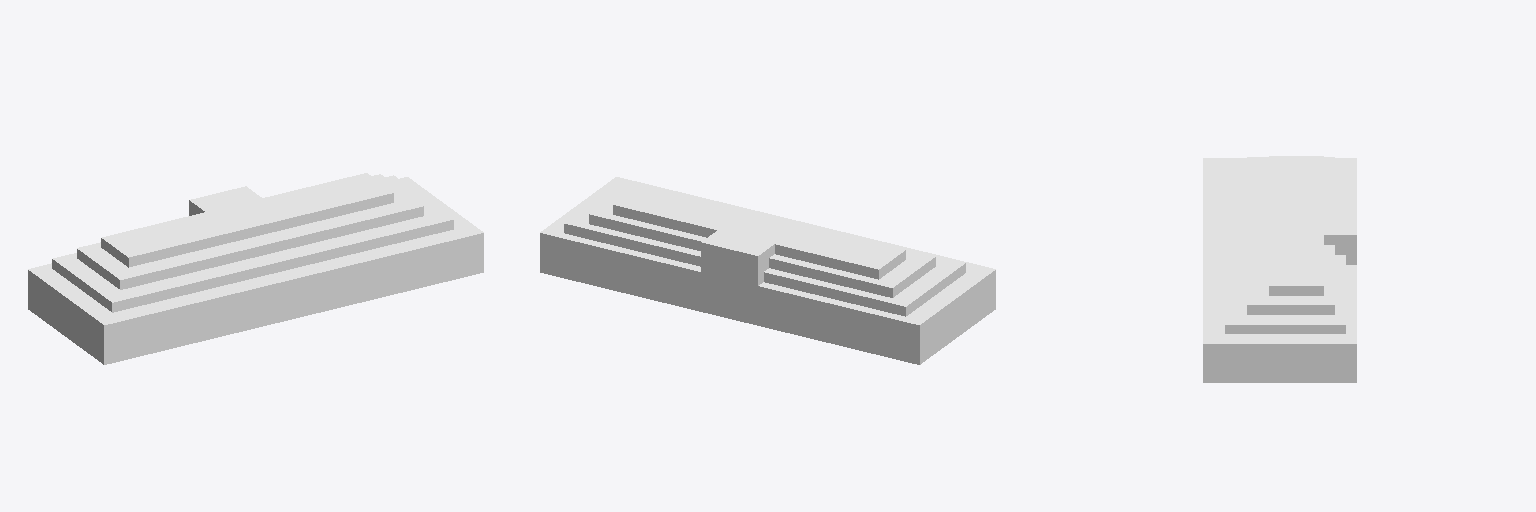
File: hotte.obj
3 views of the same model, side by side, from view 1: azimuth 30°, elevation 25°; view 2: azimuth 150°, elevation 25°; view 3: azimuth 270°, elevation 25° (orthographic).
Parts seen in each view (by area): view 1: object 1; view 2: object 1; view 3: object 1.
Boxes of the visible parts, box(x1,y1,x2,y2) form: object 1: box(28, 173, 483, 364); object 1: box(540, 177, 995, 364); object 1: box(1203, 156, 1356, 382).
Size of the model in its own units: 4 by 0.7 by 1.4.